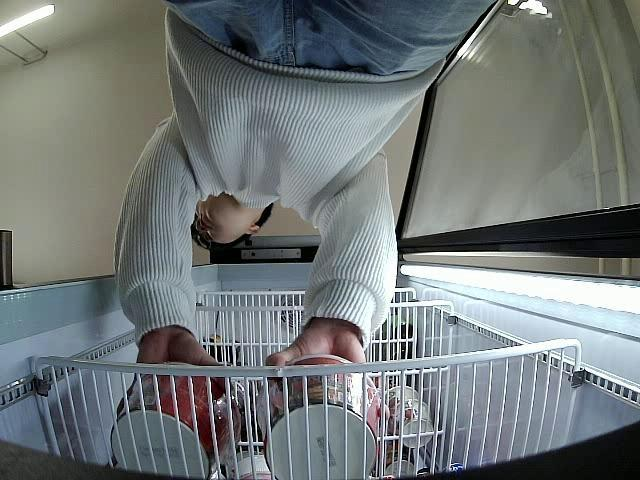01_ShinRamen_L: (254, 355, 382, 480), (109, 363, 242, 480)
